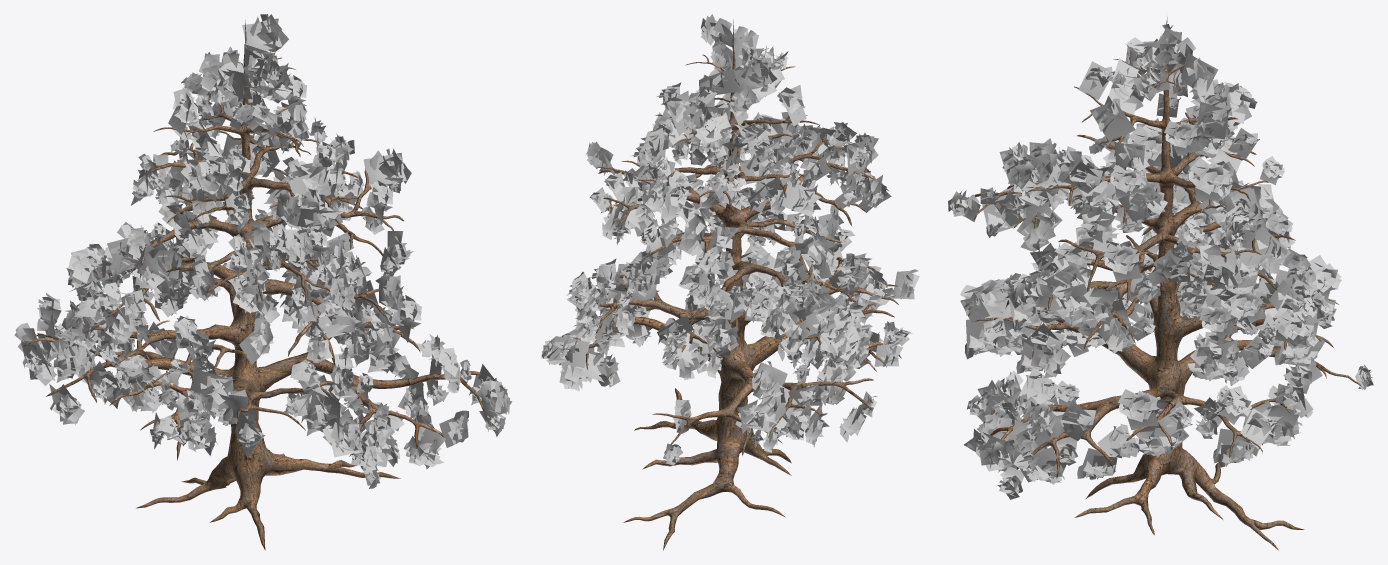
The model's file is tree5.fbx.
3 renders of one model, left to right at view 1: azimuth 30°, elevation 25°; view 2: azimuth 150°, elevation 25°; view 3: azimuth 270°, elevation 25°, orthographic. The views are drawn at different scales.
Visible parts, largest first — view 1: branch3-2.131, tree3; view 2: branch3-2.131, tree3; view 3: branch3-2.131, tree3.
Boxes of the visible parts, <box> form: branch3-2.131: <box>14,14,512,488</box>; tree3: <box>23,19,483,550</box>; branch3-2.131: <box>541,14,919,465</box>; tree3: <box>549,19,901,550</box>; branch3-2.131: <box>948,24,1373,499</box>; tree3: <box>974,16,1361,550</box>.
Bounding box in the file's own units: 1664 × 2222 × 1670.
